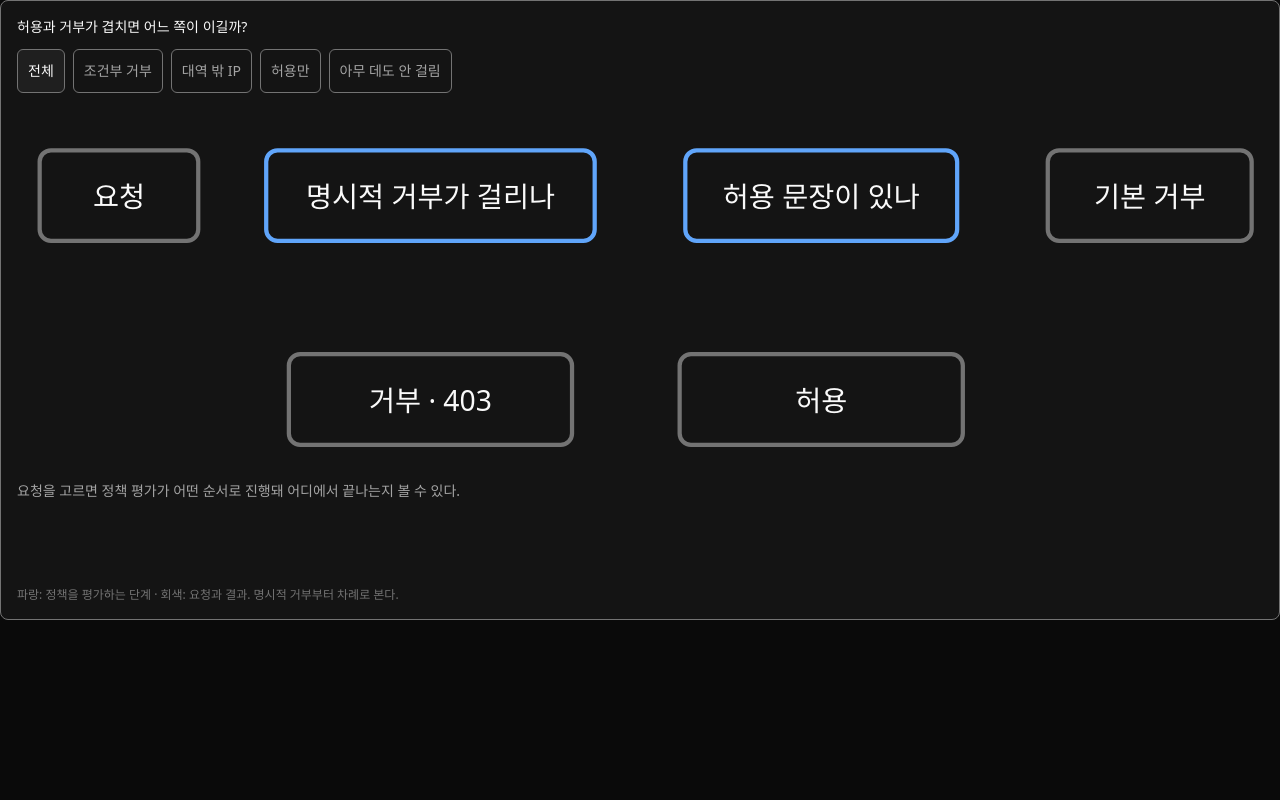
PolicyEvaluationDiagram › 가로형 (768px 이상) › 대역 밖 IP: 세로형과 같은 노드·경로·곁말·캡션을 보이고 곁말은 노드·경로와 겹치지 않는다
Click the button "대역 밖 IP": (211, 71) top-left (171, 49), bottom-right (252, 93)
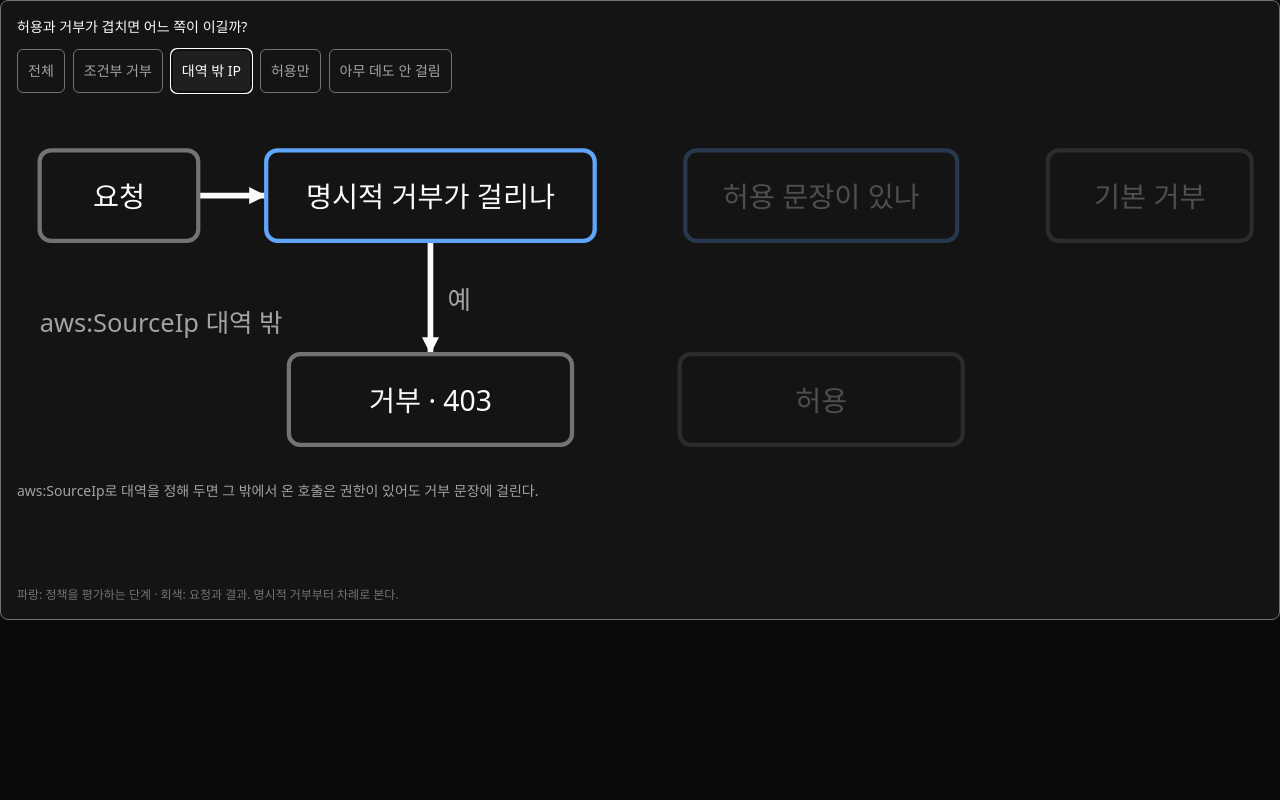
Check: the text "aws:SourceIp로 대역을 정해 두면 그 밖에서 온 호출은 권한이 있어도 거부 문장에 걸린다." is shown, box top-left (17, 482), bottom-right (538, 500)
